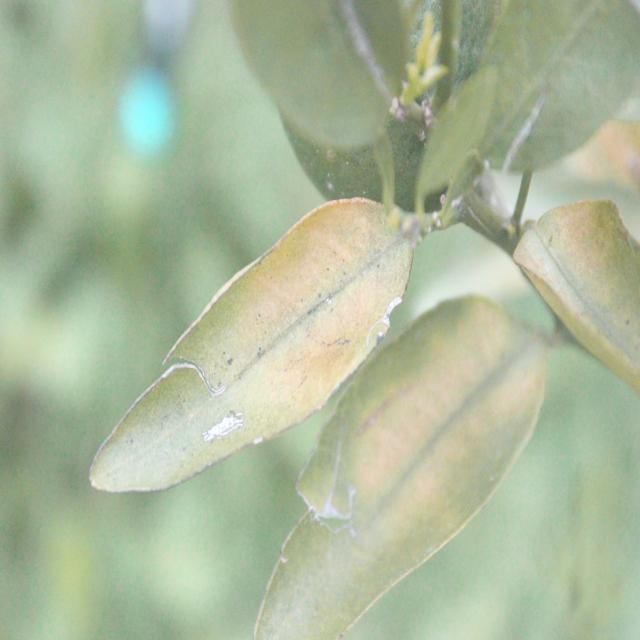blackspot: (85, 189, 422, 494)
